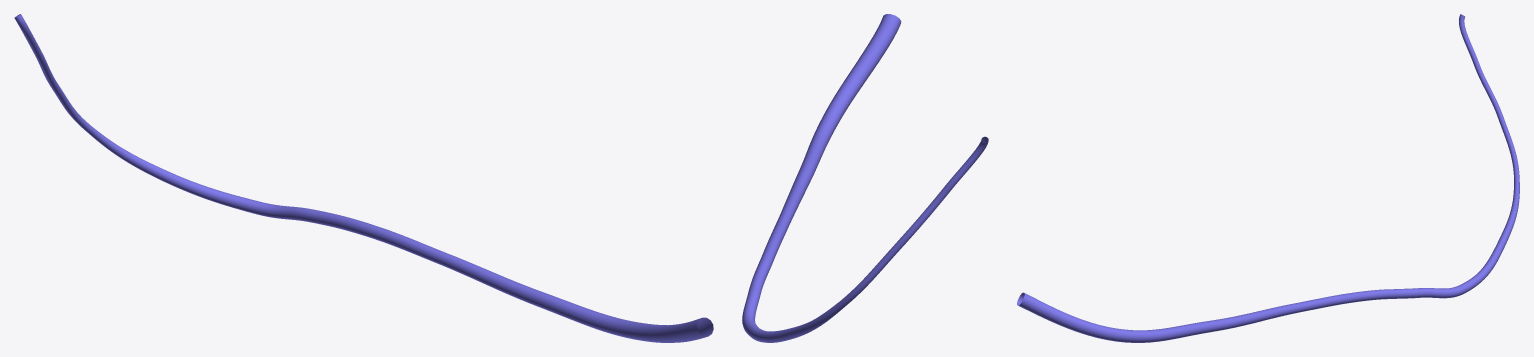
File: Medial_circumflex_femoral_veins.r_BezierCurve.394.glb
The picture shows the model from 3 angles, left to right: view 1: azimuth 30°, elevation 25°; view 2: azimuth 150°, elevation 25°; view 3: azimuth 270°, elevation 25°; orthographic projection. The views are drawn at different scales.
Visible parts, largest first — view 1: Medial_circumflex_femoral_veins.r_BezierCurve.394; view 2: Medial_circumflex_femoral_veins.r_BezierCurve.394; view 3: Medial_circumflex_femoral_veins.r_BezierCurve.394.
Boxes of the visible parts, <box> form: Medial_circumflex_femoral_veins.r_BezierCurve.394: <box>14,14,713,342</box>; Medial_circumflex_femoral_veins.r_BezierCurve.394: <box>742,14,988,342</box>; Medial_circumflex_femoral_veins.r_BezierCurve.394: <box>1017,14,1519,342</box>.
Size of the model in its own units: 0.0423 by 0.026 by 0.0614.
